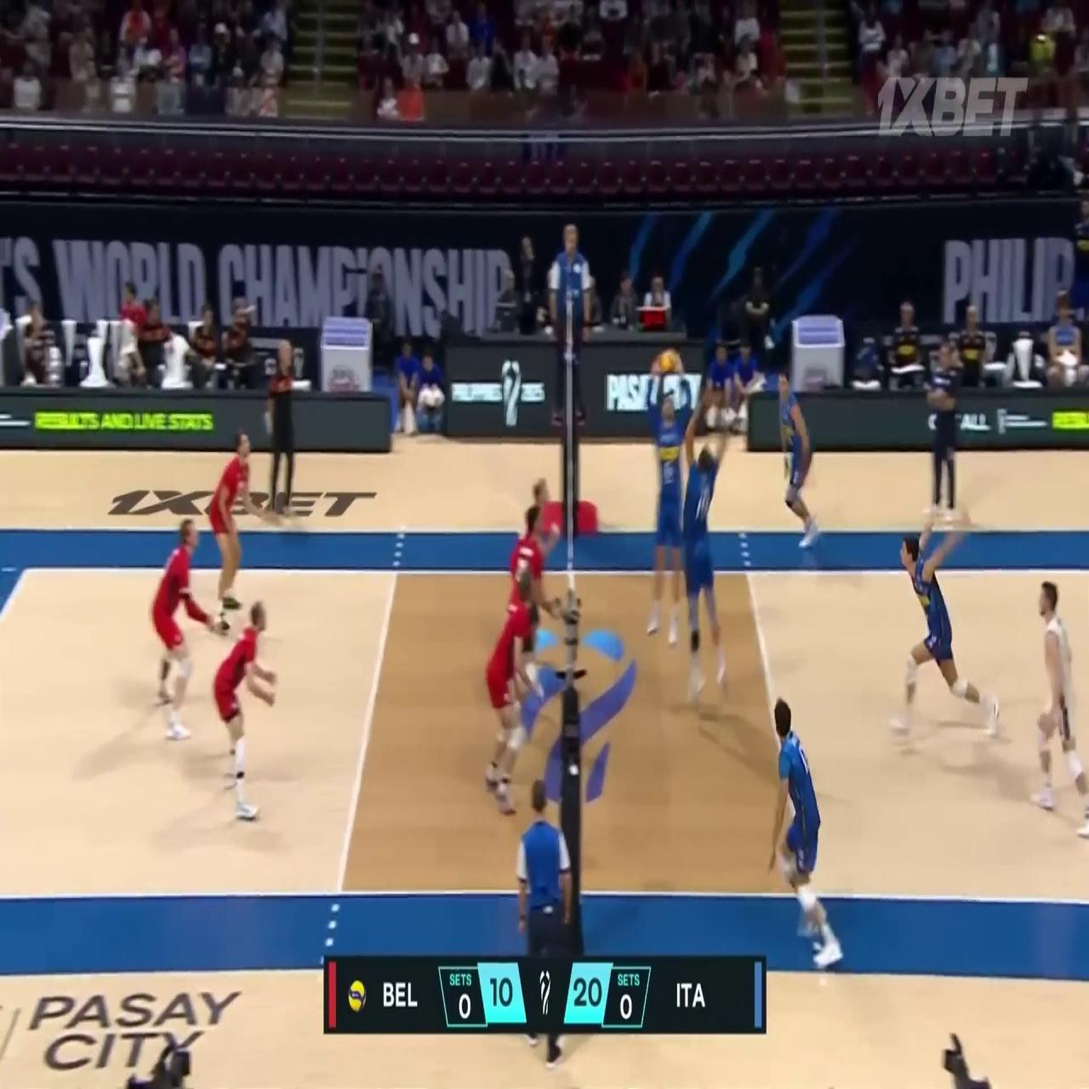ball: (661, 351, 674, 375)
